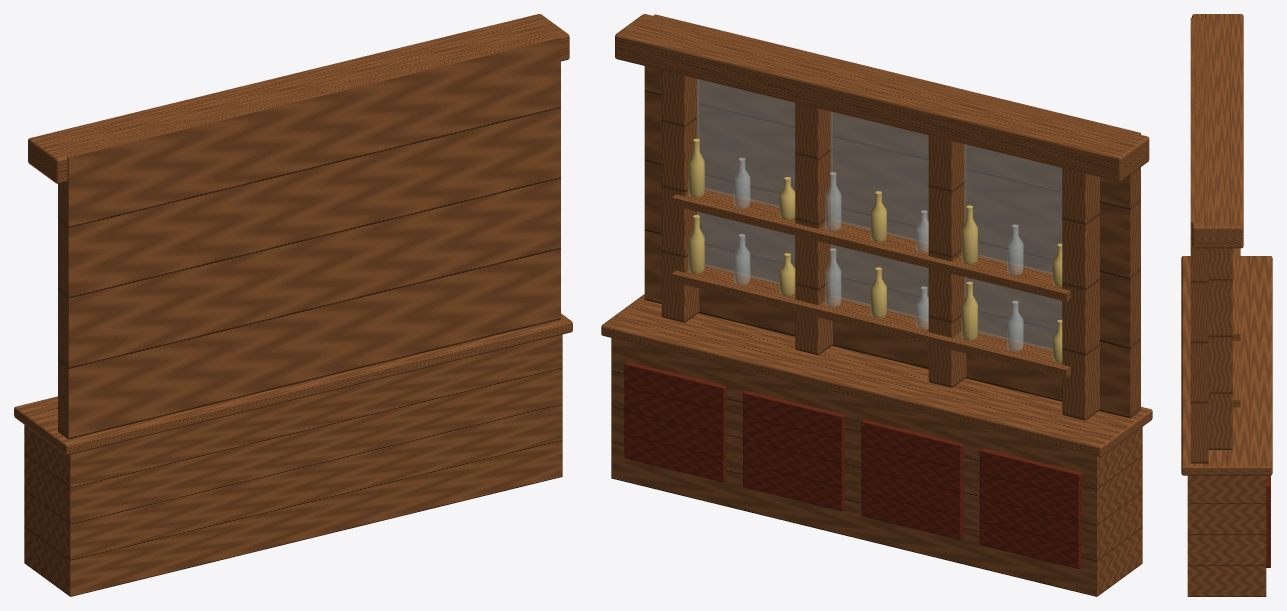
File: wild-west-frontier-town-saloon-back-bar-3359a141__30111.glb
3 renders of one model, left to right at view 1: azimuth 30°, elevation 25°; view 2: azimuth 150°, elevation 25°; view 3: azimuth 270°, elevation 25°, orthographic. The views are drawn at different scales.
Parts seen in each view (by area): view 1: saloon-back-bar; view 2: saloon-back-bar; view 3: saloon-back-bar.
Part boxes in pixels (<box>): saloon-back-bar: <box>14,14,572,596</box>; saloon-back-bar: <box>601,14,1152,596</box>; saloon-back-bar: <box>1181,14,1272,596</box>.
Bounding box in the file's own units: 3.34 × 2.72 × 0.5998.
Materials: 4 (2 with a texture image).
